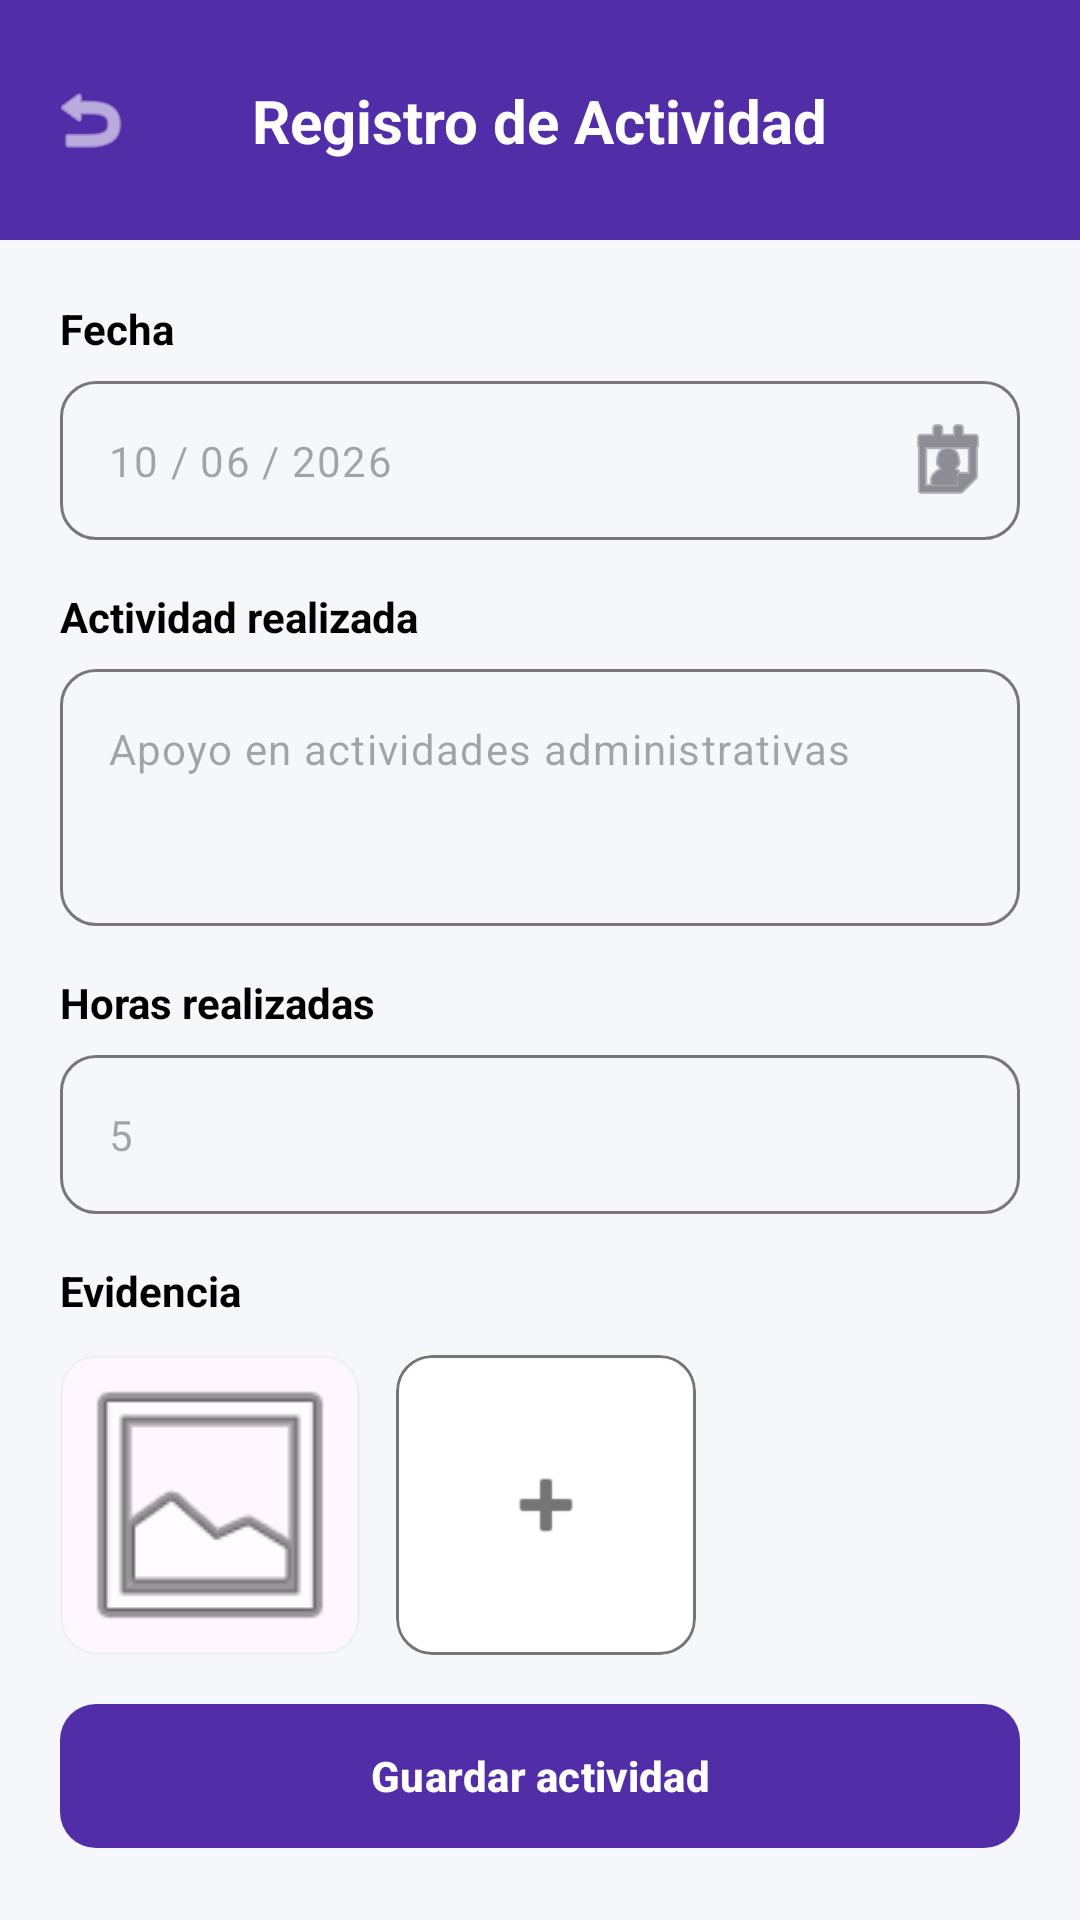

Named icons in this screenshot (1080x1920) and their bounding boxes, bbox=[x1, y1, x2, y2]:
add: bbox=[519, 1478, 573, 1532]
gallery: bbox=[60, 1355, 360, 1655]
revert: bbox=[61, 93, 121, 148]
